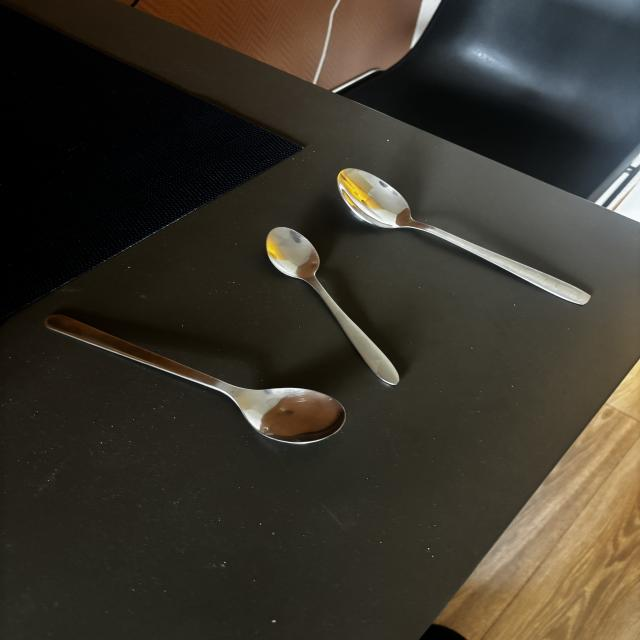spoon: (42, 313, 346, 448), (337, 169, 591, 306), (266, 228, 403, 389)
